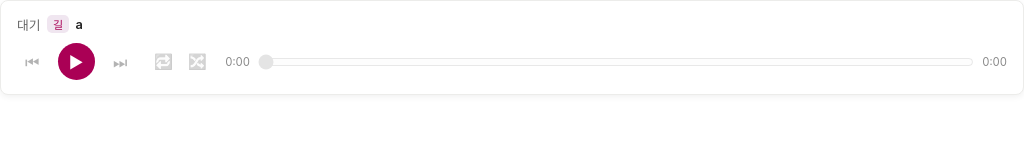
Test: MusicPlayerBar — 순수 뷰 (글로벌 now-playing + idle 미리보기) › idle ▶ → 보는 노트를 재생 시작(setQueue + play(0))
Step 1. Click the button "▶" → (76, 62), box top-left (58, 43), bottom-right (95, 80)
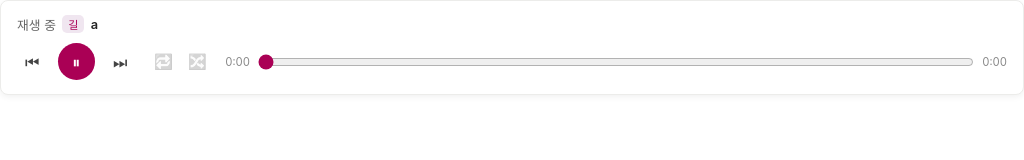
Now the element with class "music-now" shows "재생 중", box top-left (17, 18), bottom-right (56, 33)
